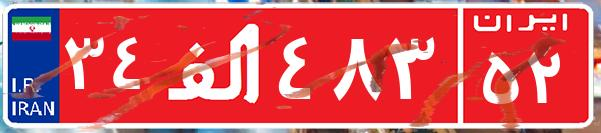2: (525, 38, 570, 115)
3: (385, 28, 445, 110), (57, 26, 110, 107)
4: (273, 28, 330, 110), (110, 28, 158, 105)
5: (475, 38, 525, 113)
8: (330, 28, 385, 110)
الف: (158, 15, 273, 115)
